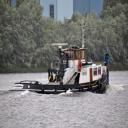tugboat: (10, 43, 112, 99)
